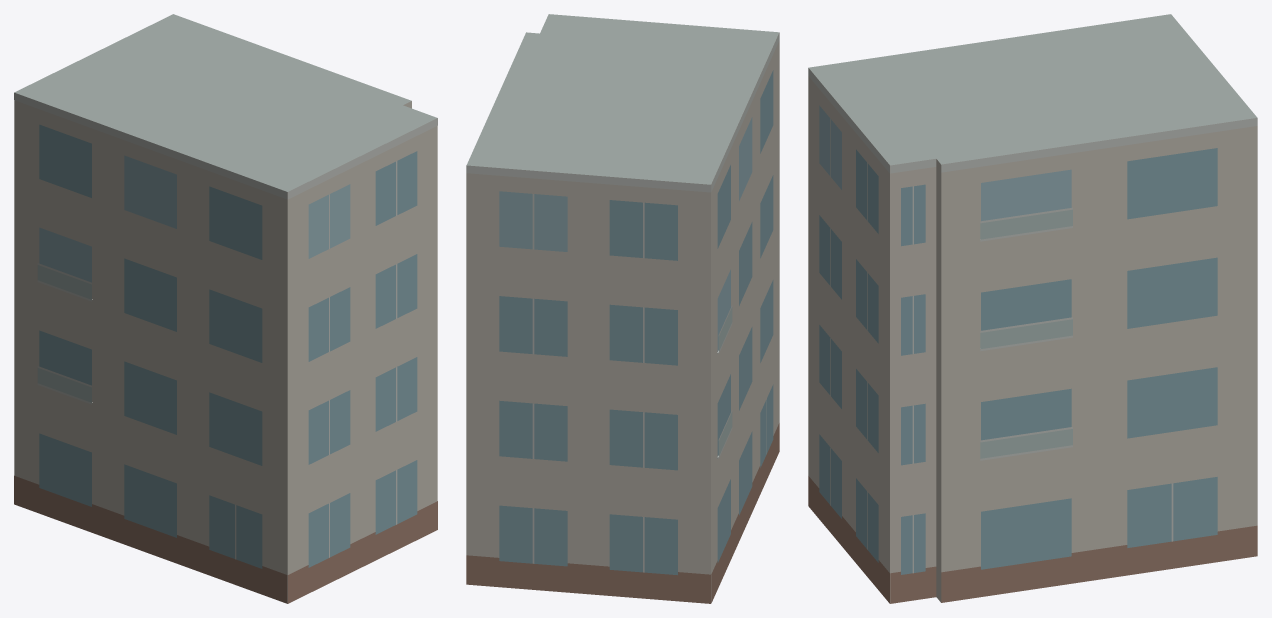
Rendered from survey-upis-32799405.glb.
3 renders of one model, left to right at view 1: azimuth 30°, elevation 25°; view 2: azimuth 150°, elevation 25°; view 3: azimuth 270°, elevation 25°, orthographic. The views are drawn at different scales.
Visible parts, largest first — view 1: survey-upis-32799405.tmp; view 2: survey-upis-32799405.tmp; view 3: survey-upis-32799405.tmp.
Part boxes in pixels (<box>): survey-upis-32799405.tmp: <box>14,14,437,603</box>; survey-upis-32799405.tmp: <box>466,14,779,603</box>; survey-upis-32799405.tmp: <box>808,14,1257,603</box>.
Size of the model in its own units: 9.79 by 13.2 by 12.27.
